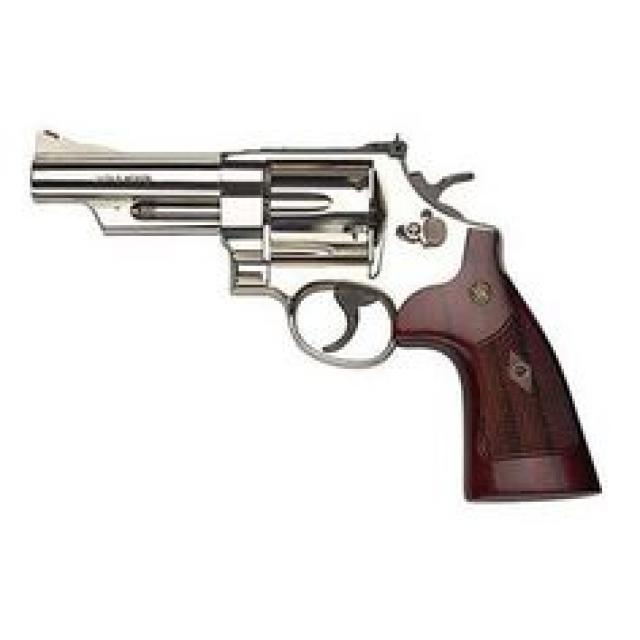revolver: (0, 34, 640, 507)
